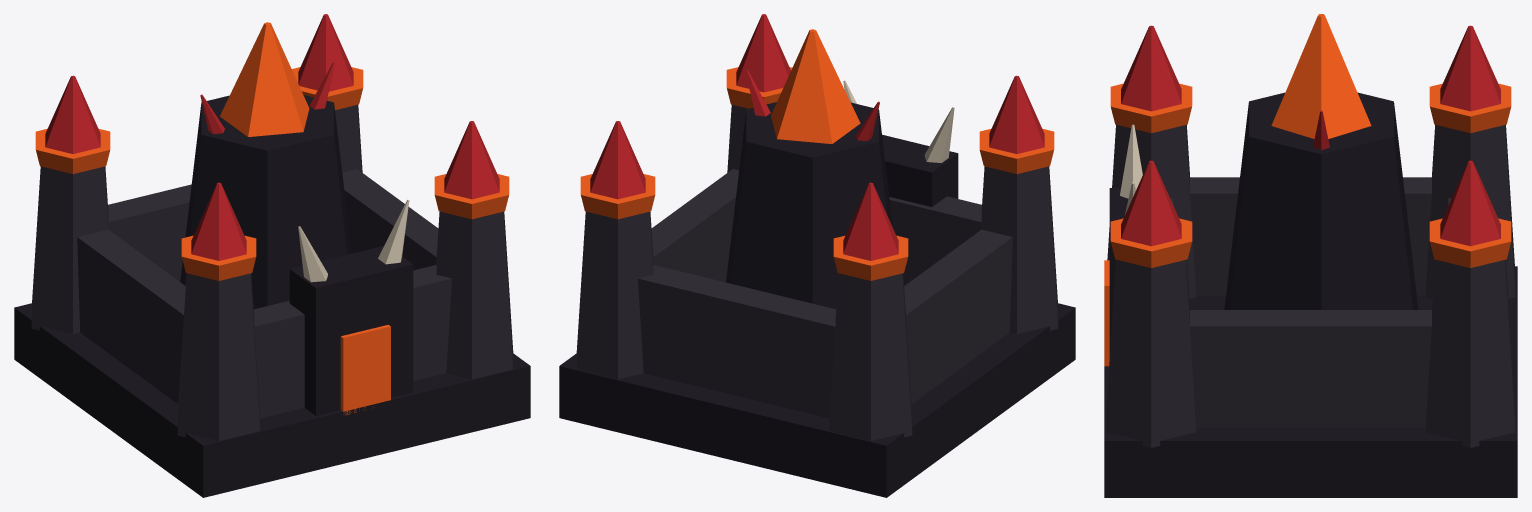
File: castle_inferno.glb
The picture shows the model from 3 angles, left to right: view 1: azimuth 30°, elevation 25°; view 2: azimuth 150°, elevation 25°; view 3: azimuth 270°, elevation 25°; orthographic projection. The views are drawn at different scales.
Parts seen in each view (by area): view 1: castle_inferno; view 2: castle_inferno; view 3: castle_inferno.
Boxes of the visible parts, <box> form: castle_inferno: <box>14,14,530,497</box>; castle_inferno: <box>559,14,1075,497</box>; castle_inferno: <box>1104,14,1517,497</box>.
Size of the model in its own units: 3.24 by 3.34 by 3.16.
